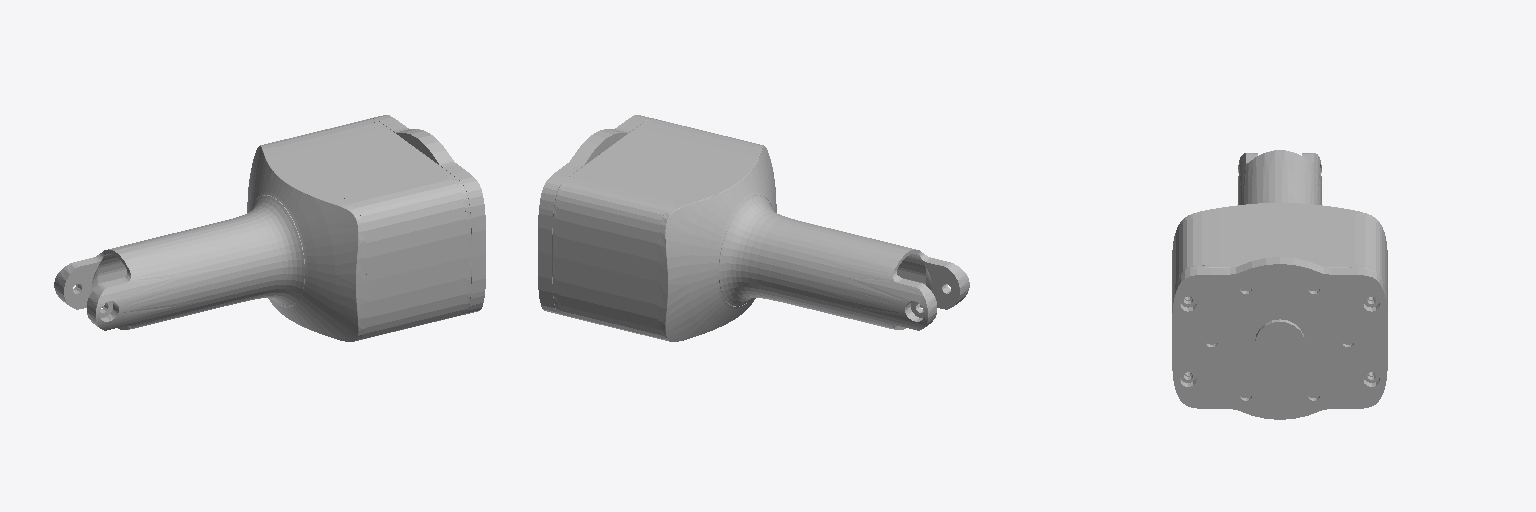
The model's file is suction_cup_base_link.obj.
The picture shows the model from 3 angles: view 1: azimuth 30°, elevation 25°; view 2: azimuth 150°, elevation 25°; view 3: azimuth 270°, elevation 25°; orthographic projection.
Visible parts, largest first — view 1: base_link_material1; view 2: base_link_material1; view 3: base_link_material1.
Boxes of the visible parts, box(x1,y1,x2,y2) form: base_link_material1: box(54, 115, 485, 341); base_link_material1: box(538, 115, 969, 341); base_link_material1: box(1172, 150, 1387, 419).
Size of the model in its own units: 0.1505 by 0.062 by 0.0781.